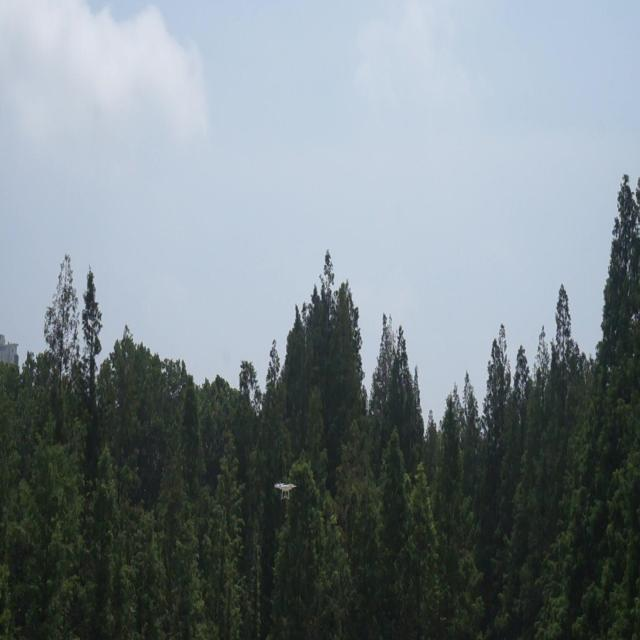drone: (272, 477, 296, 498)
